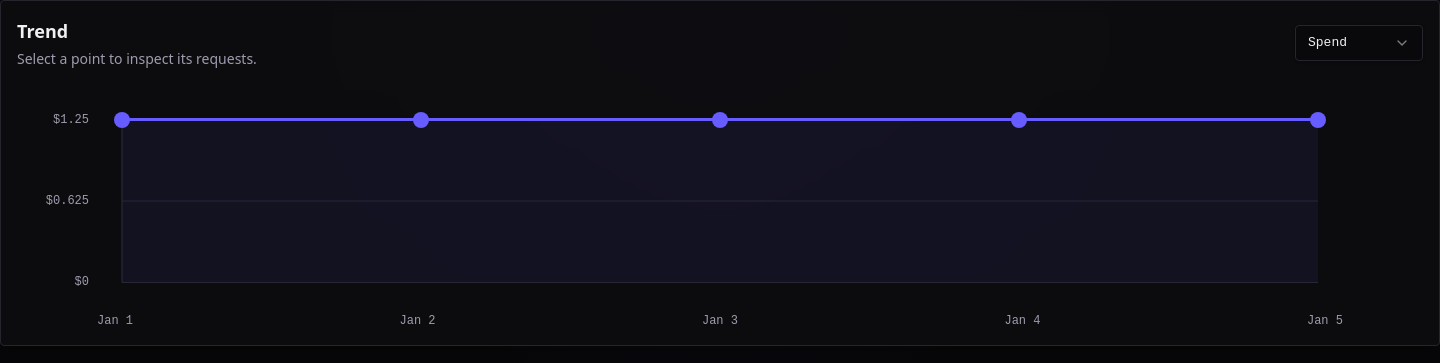
it: labels dates across the trend and shows full daily usage on hover
expect the text "Jan 1" is shown: met, box [97, 313, 133, 329]
expect the text "Jan 3" is shown: met, box [702, 313, 738, 329]
Hover over the link named "Jan 1: $1.25".
mouse_move(122, 120)  # box [114, 112, 130, 128]
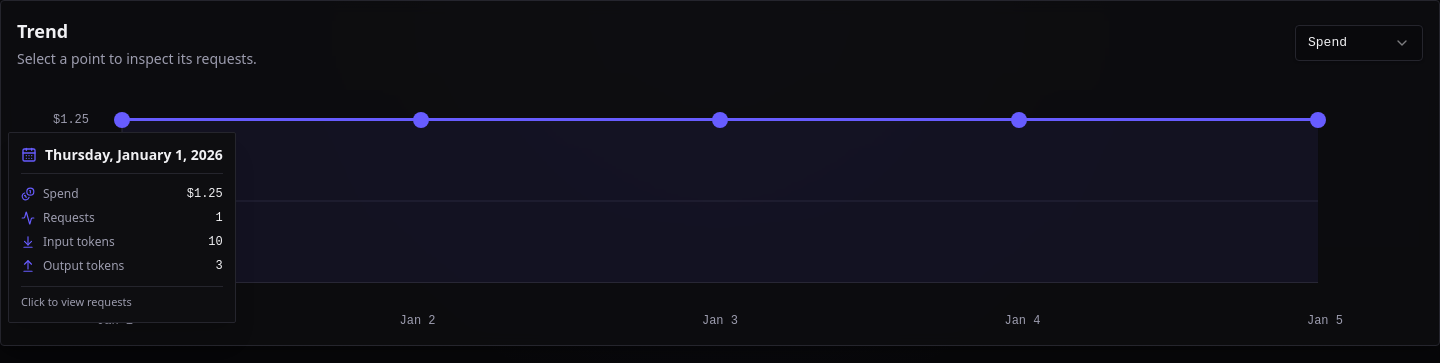
expect the text "Requests" is shown: met, box [43, 210, 95, 226]
expect the text "Input tokens" is shown: met, box [43, 234, 115, 250]
expect the text "Output tokens" is shown: met, box [43, 258, 124, 274]
